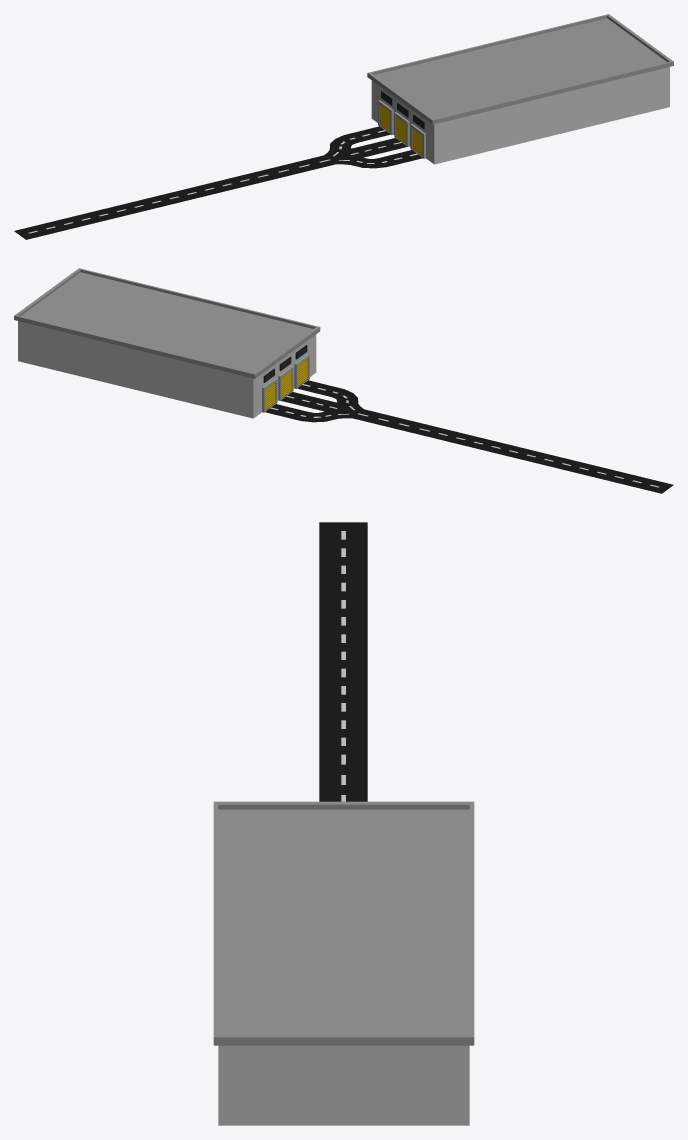
File: VagLager.fbx
3 renders of one model, top to bottom at view 1: azimuth 30°, elevation 25°; view 2: azimuth 150°, elevation 25°; view 3: azimuth 270°, elevation 25°, orthographic. The views are drawn at different scales.
Visible parts, largest first — view 1: Lager, Hogaffelvag; view 2: Lager, Hogaffelvag; view 3: Lager, Hogaffelvag.
Part boxes in pixels (<box>): Lager: <box>367,14,673,164</box>; Hogaffelvag: <box>14,126,422,239</box>; Lager: <box>14,268,320,418</box>; Hogaffelvag: <box>265,380,673,493</box>; Lager: <box>213,801,474,1125</box>; Hogaffelvag: <box>319,522,367,801</box>.
Size of the model in its own units: 3644 by 1418 by 20080.
